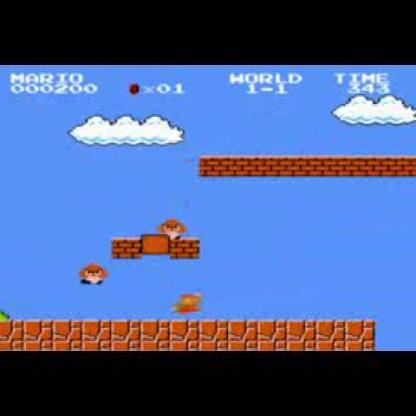Goomba: (79, 261, 110, 289), (161, 216, 189, 239)
Hoyo: (370, 316, 415, 351)
